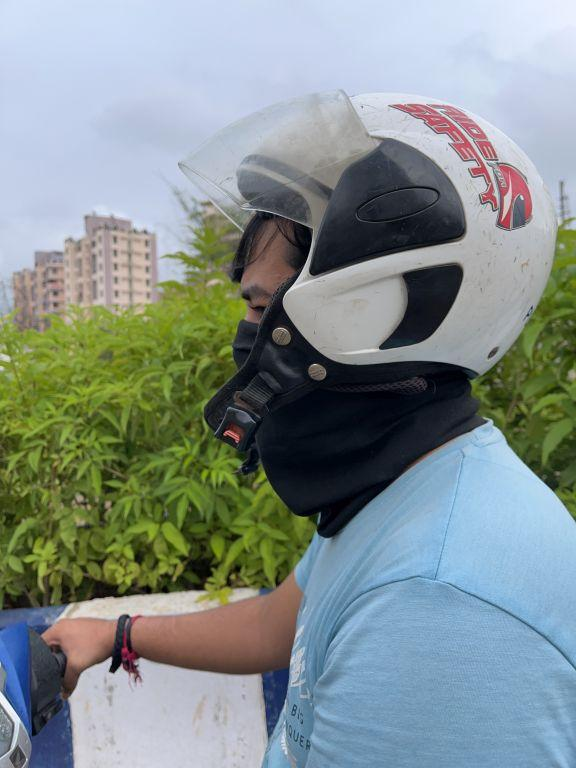helmet: (174, 70, 561, 450)
